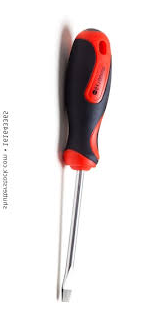Screwdriver: (48, 21, 117, 309)
